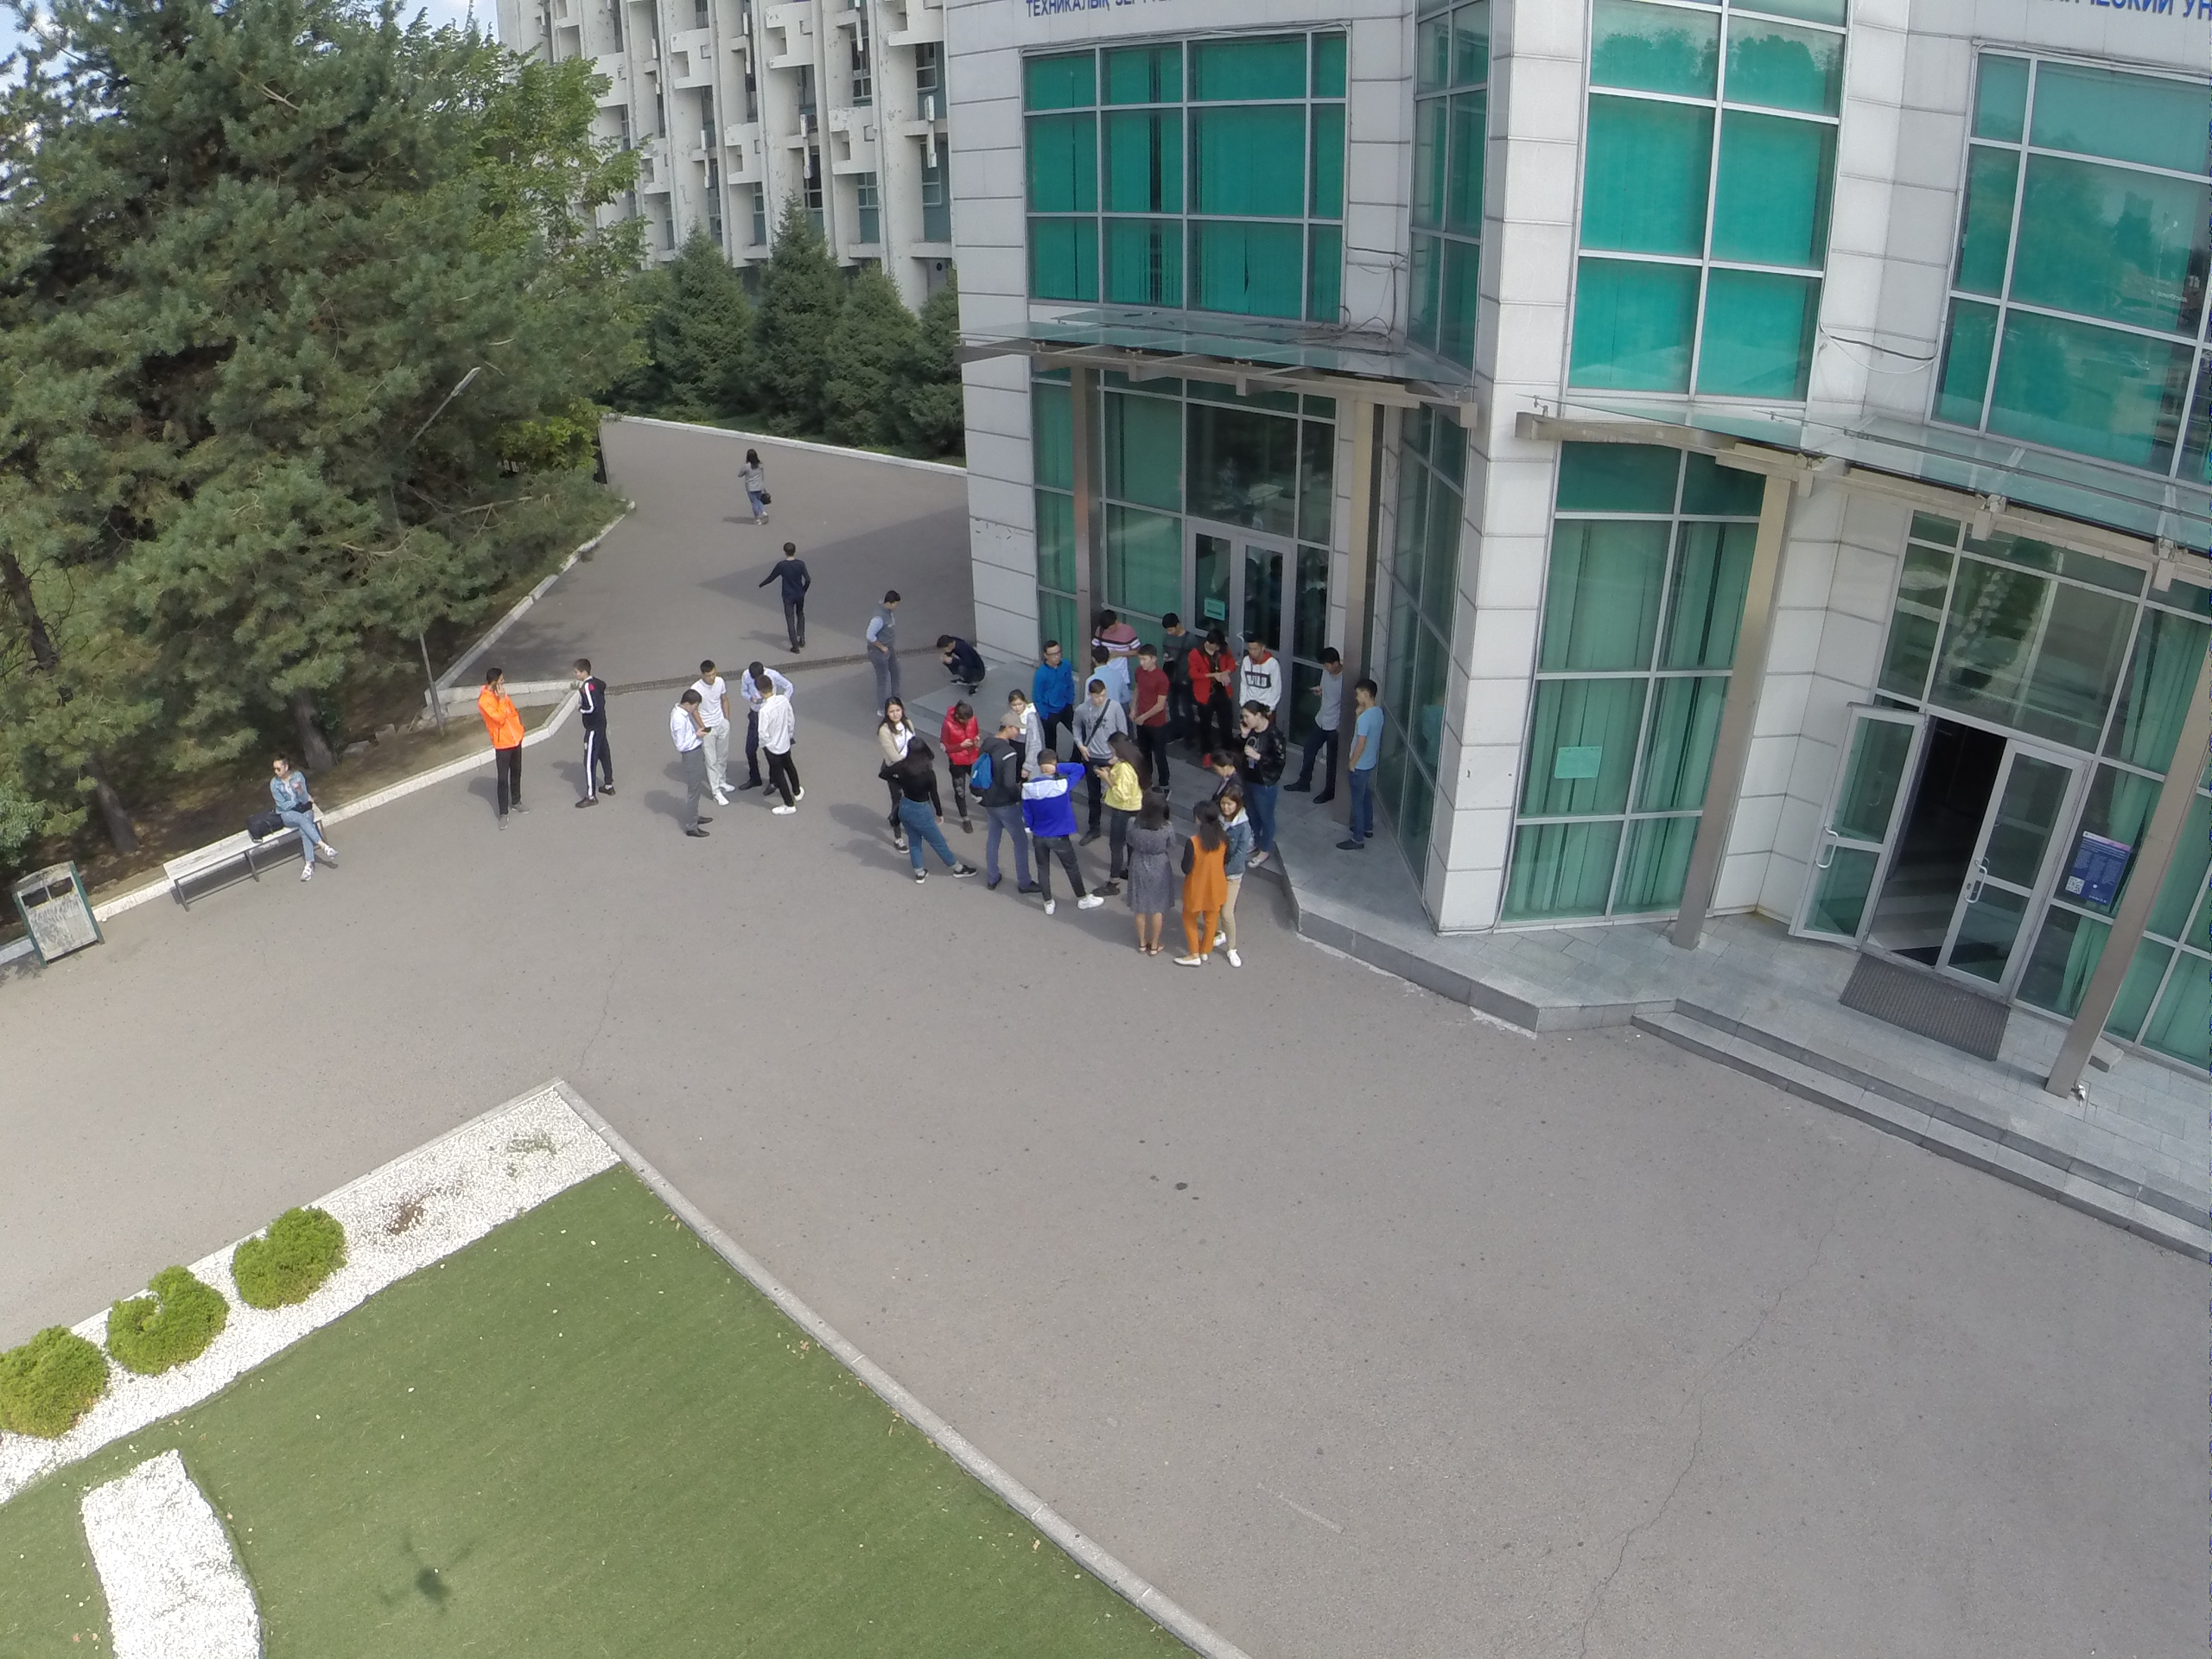person: (1022, 748, 1104, 921), (268, 743, 347, 893), (978, 710, 1039, 905), (890, 726, 958, 891), (474, 664, 534, 840), (1287, 643, 1344, 808), (1122, 782, 1176, 958), (566, 652, 621, 818), (753, 674, 809, 828), (1065, 668, 1117, 821), (1342, 677, 1385, 854), (1180, 800, 1226, 968), (691, 658, 740, 810), (1103, 728, 1148, 893), (760, 537, 820, 658), (1216, 785, 1254, 975), (1239, 698, 1279, 868), (1187, 629, 1236, 759), (1133, 647, 1173, 795), (671, 686, 708, 843), (1033, 631, 1076, 743), (933, 627, 991, 701), (864, 577, 899, 693), (949, 702, 982, 819), (1007, 674, 1046, 768), (1159, 609, 1195, 700), (738, 444, 776, 529), (1238, 634, 1281, 702), (1093, 602, 1133, 670), (880, 695, 912, 756)
